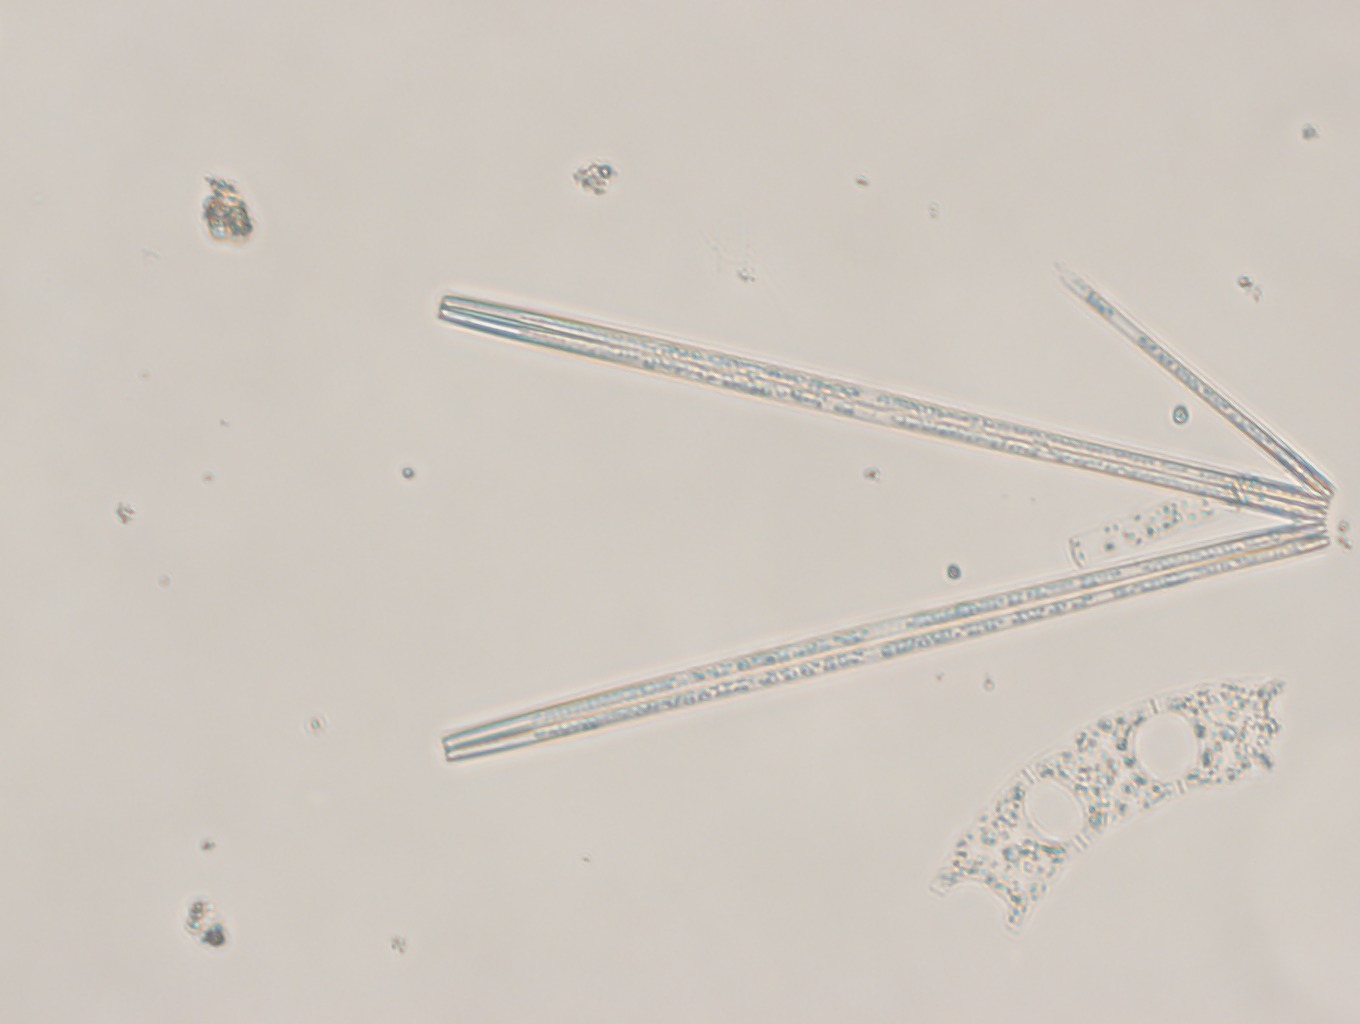eucampia: (925, 670, 1289, 937)
thalassionema frauenfeldii: (426, 248, 1346, 767)
